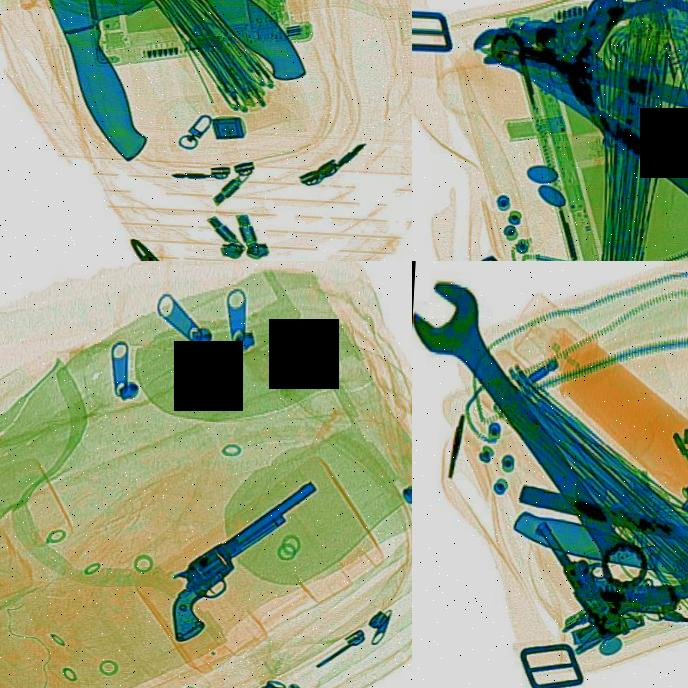Gun: (130, 469, 360, 654), (525, 481, 688, 648), (522, 0, 682, 143)
Knife: (0, 0, 326, 134), (471, 33, 688, 210), (0, 0, 222, 169), (491, 36, 688, 177), (506, 504, 688, 615), (513, 474, 688, 576)
Wrench: (412, 288, 683, 603), (481, 19, 688, 136), (460, 0, 688, 78), (583, 536, 688, 635)
